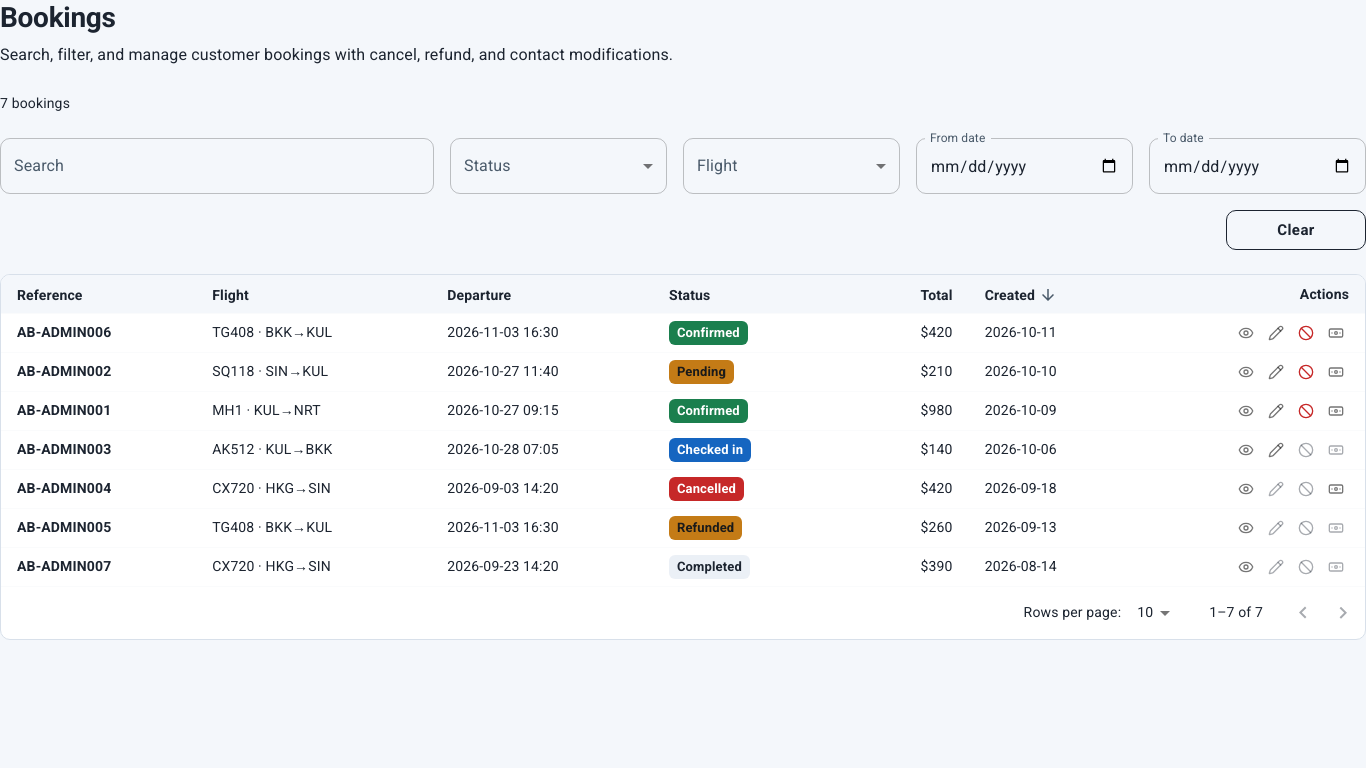
Test: AdminBookingsPage › refunds a cancelled booking
Expected: the text "AB-ADMIN004" is shown, [17, 480, 111, 496]
Click the button named "Refund AB-ADMIN004": (1336, 489) [1323, 476, 1349, 502]
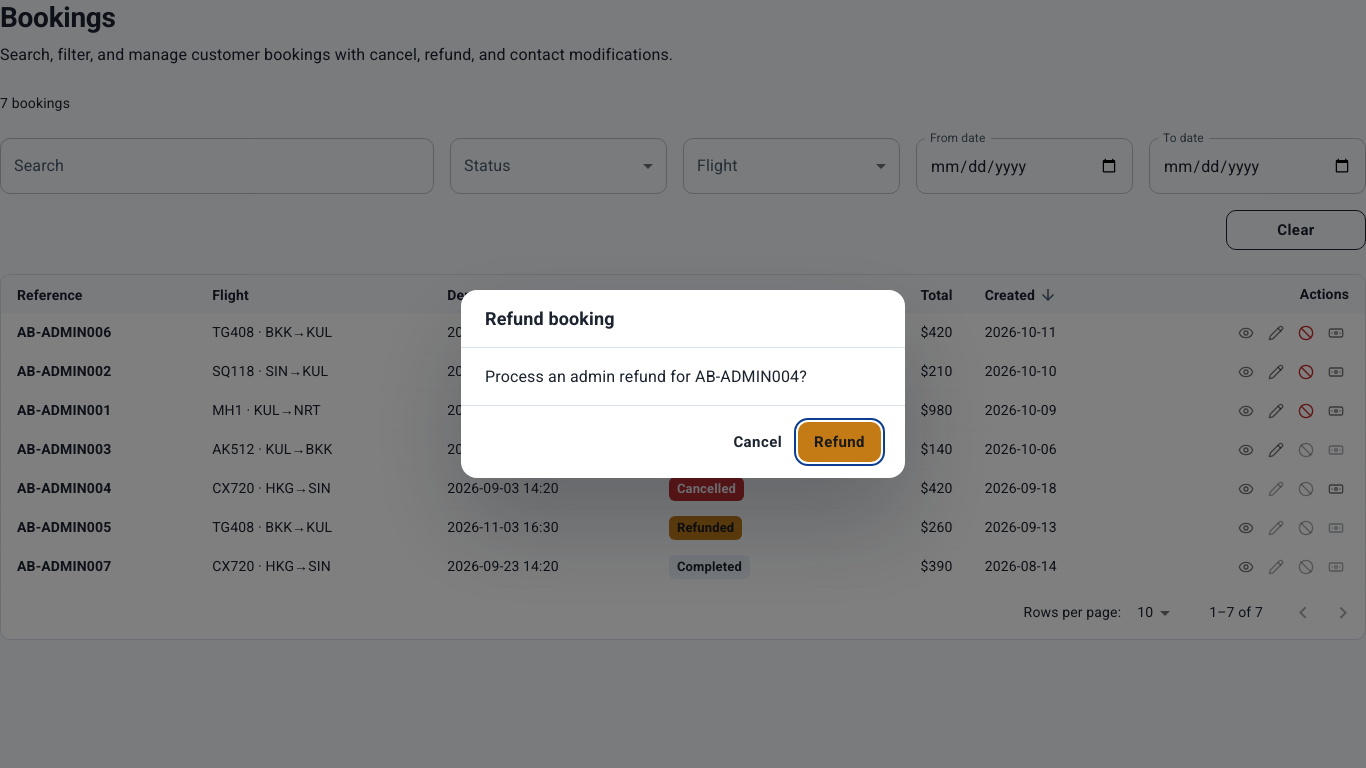
Now the heading "Refund booking" is shown, box [485, 308, 615, 329]
Click the button "Refund": (840, 442) [798, 422, 881, 462]
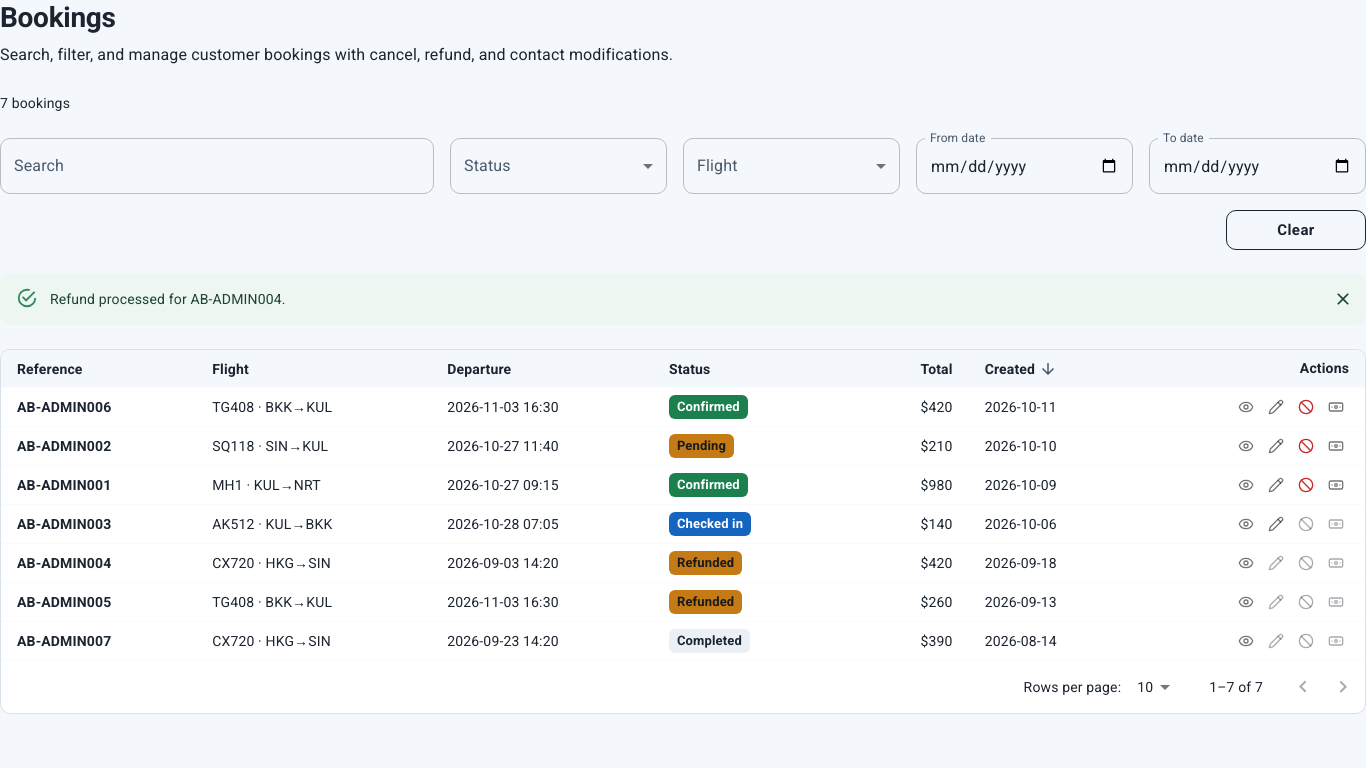
Now the text "Refund processed for AB-ADMIN004." is shown, box [50, 291, 286, 307]
